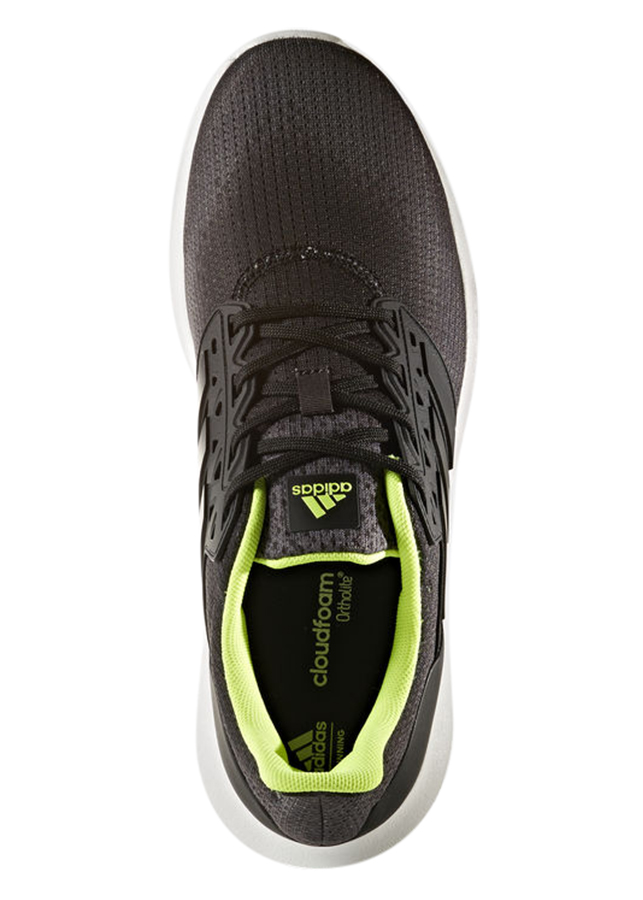Adidas: (284, 477, 359, 525), (281, 713, 333, 774)
